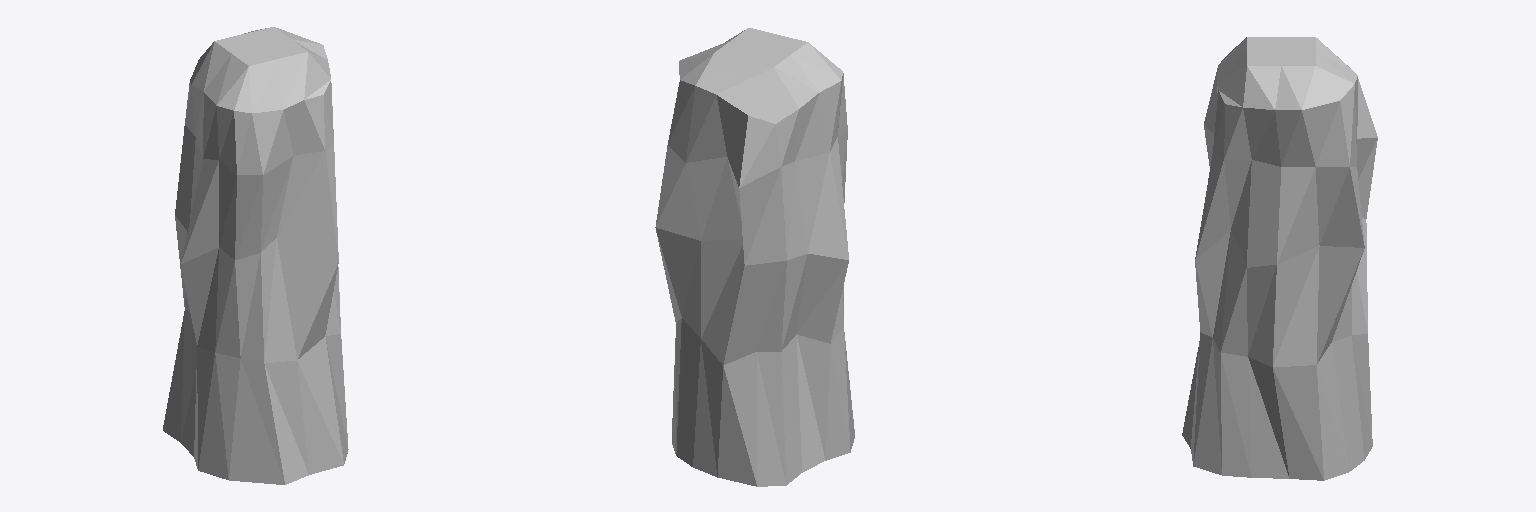
The model's file is tree.obj.
3 views of the same model, side by side, from view 1: azimuth 30°, elevation 25°; view 2: azimuth 150°, elevation 25°; view 3: azimuth 270°, elevation 25° (orthographic).
Parts seen in each view (by area): view 1: Cube_Cube.004; view 2: Cube_Cube.004; view 3: Cube_Cube.004.
Boxes of the visible parts, box(x1,y1,x2,y2) form: Cube_Cube.004: box(163, 27, 348, 484); Cube_Cube.004: box(655, 28, 854, 486); Cube_Cube.004: box(1182, 37, 1377, 480).
Bounding box in the file's own units: 2.64 × 6.68 × 2.86.